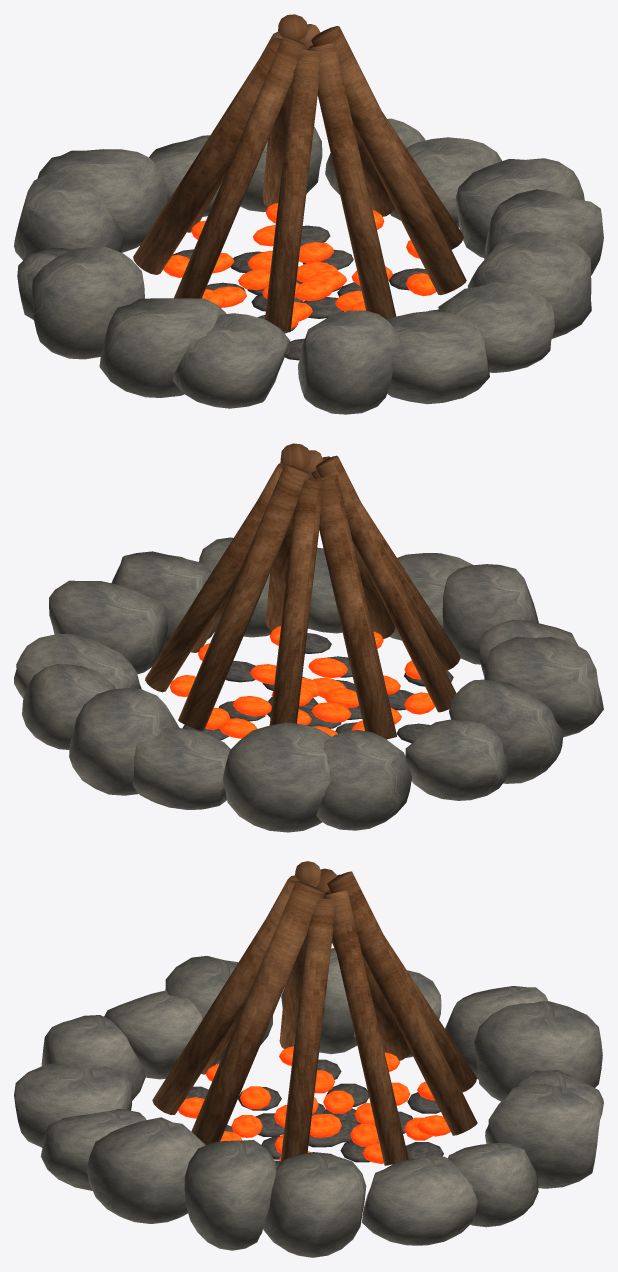
File: feuerstelle_nah-Bn7D6xJP.glb
3 views of the same model, one above another, from view 1: azimuth 30°, elevation 25°; view 2: azimuth 150°, elevation 25°; view 3: azimuth 270°, elevation 25° (orthographic). The views are drawn at different scales.
Parts seen in each view (by area): view 1: Steine, Holz, Glut, Asche; view 2: Steine, Holz, Glut, Asche; view 3: Steine, Holz, Glut, Asche.
Part boxes in pixels (bbox=[...]): Steine: bbox=[14, 118, 603, 414]; Holz: bbox=[133, 14, 466, 332]; Glut: bbox=[163, 203, 436, 328]; Asche: bbox=[172, 225, 438, 360]; Steine: bbox=[14, 537, 603, 832]; Holz: bbox=[145, 443, 460, 739]; Glut: bbox=[169, 626, 434, 738]; Asche: bbox=[182, 633, 453, 743]; Steine: bbox=[14, 948, 603, 1257]; Holz: bbox=[152, 861, 477, 1165]; Glut: bbox=[178, 1046, 450, 1163]; Asche: bbox=[185, 1059, 443, 1168].
Size of the model in its own units: 1.91 by 0.9637 by 1.87.
Materials: 4 (4 with a texture image).
